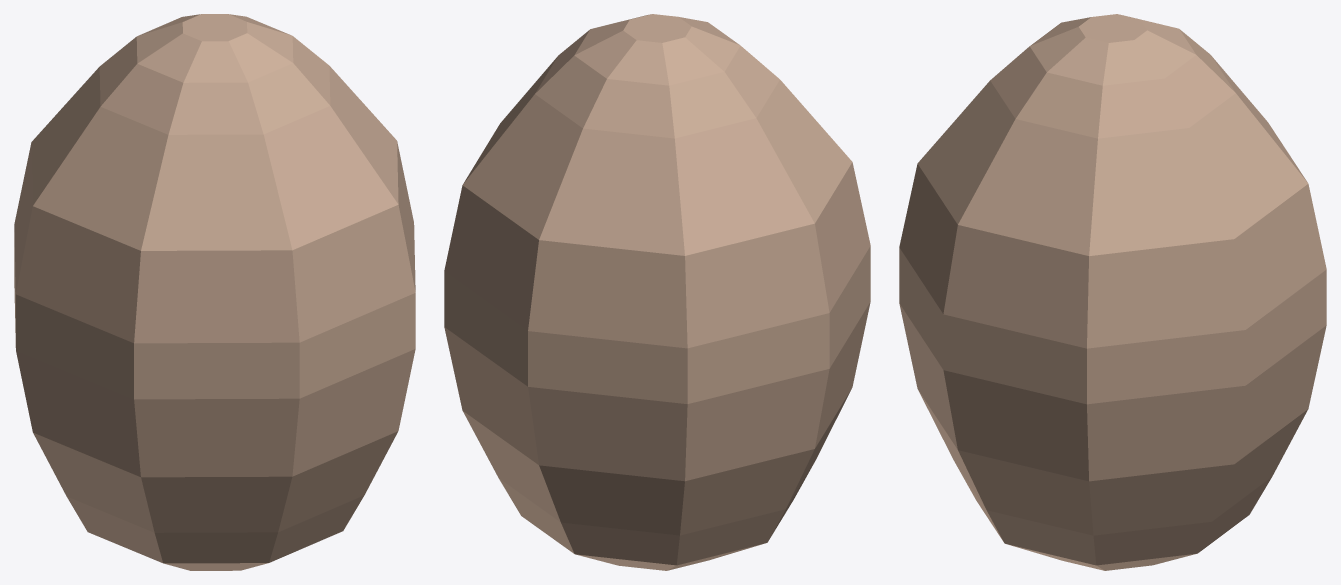
File: low_poly_simple_egg.glb
3 renders of one model, left to right at view 1: azimuth 30°, elevation 25°; view 2: azimuth 150°, elevation 25°; view 3: azimuth 270°, elevation 25°, orthographic.
Parts seen in each view (by area): view 1: Oeuf; view 2: Oeuf; view 3: Oeuf.
Part boxes in pixels (x1,y1,x2,y2): Oeuf: [14, 14, 415, 570]; Oeuf: [444, 14, 870, 570]; Oeuf: [899, 14, 1326, 570].
Size of the model in its own units: 1.05 by 1.4 by 1.05.
